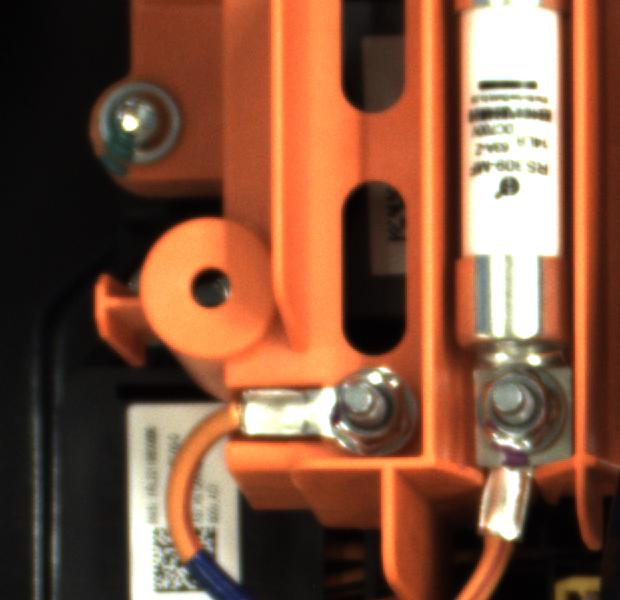screw_m: (89, 70, 195, 176)
screw_s: (470, 362, 571, 458), (321, 366, 406, 447)
